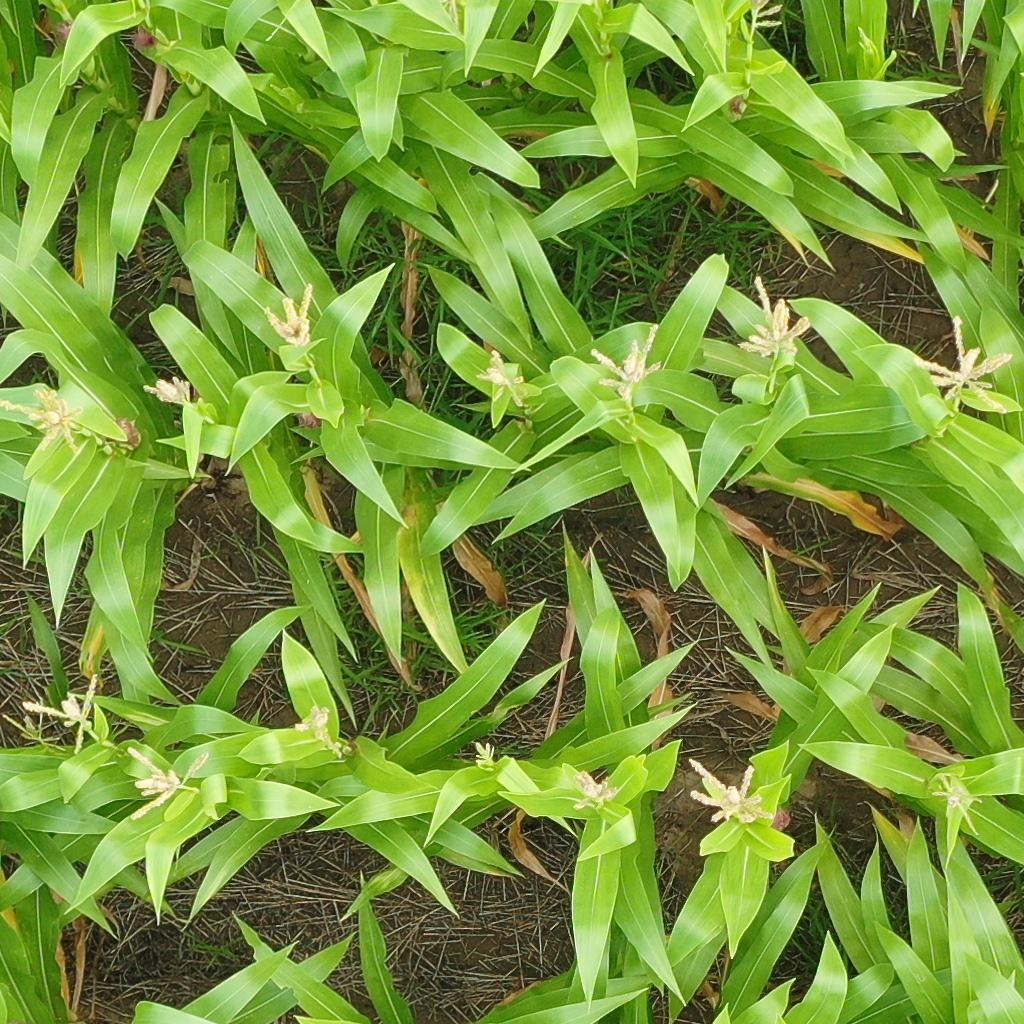Tassel: (915, 315, 1013, 418), (685, 753, 779, 827), (20, 671, 100, 757), (587, 324, 665, 404), (125, 743, 211, 815), (1, 388, 89, 458), (736, 274, 809, 352), (260, 283, 319, 350), (294, 702, 348, 763), (474, 350, 528, 408), (931, 776, 982, 837), (569, 765, 621, 815), (141, 374, 193, 406), (745, 1, 787, 32), (472, 741, 502, 773), (856, 26, 877, 56), (444, 1, 463, 24)
